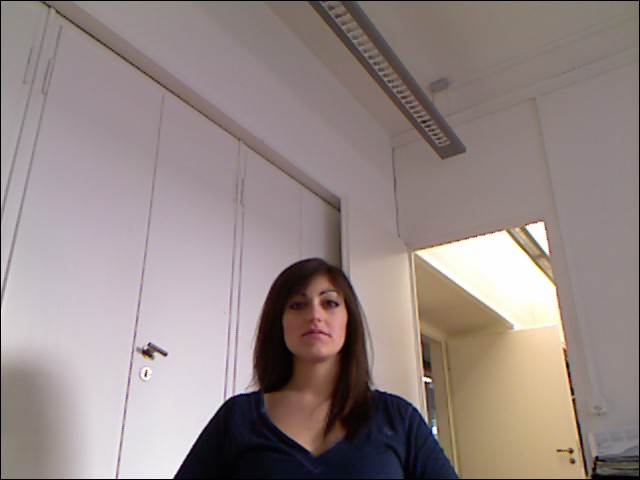deflection: (224, 264, 427, 457)
